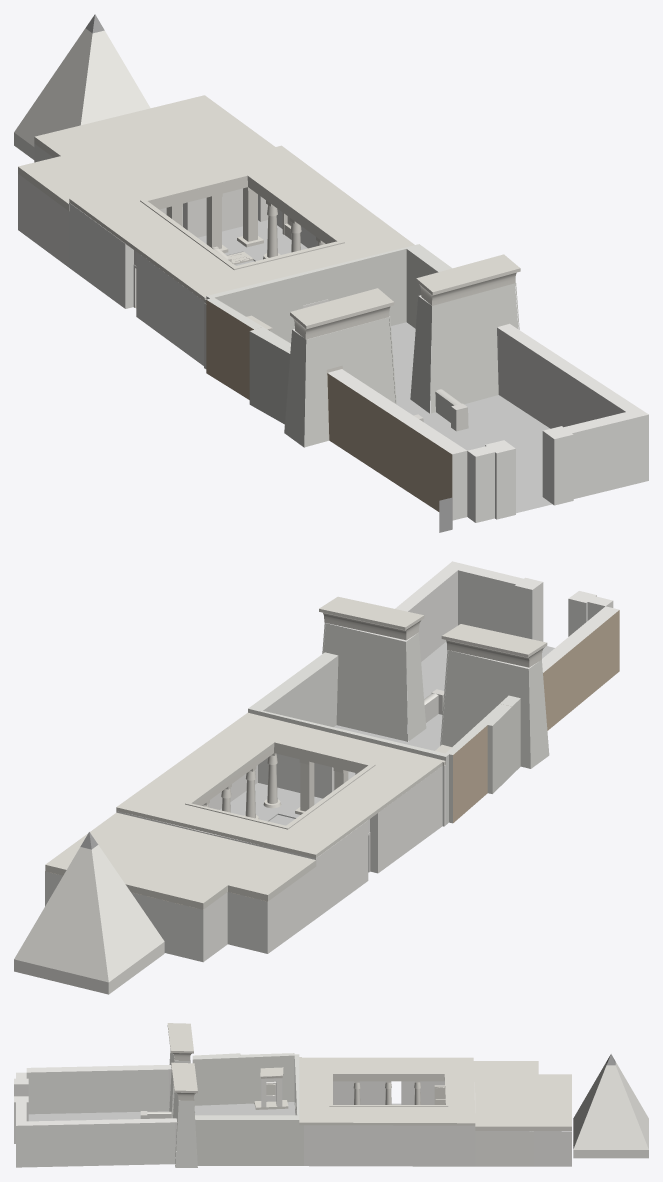
Rendered from Tia_Tia.glb.
The picture shows the model from 3 angles, top to bottom: view 1: azimuth 30°, elevation 25°; view 2: azimuth 150°, elevation 25°; view 3: azimuth 270°, elevation 25°; orthographic projection. The views are drawn at different scales.
Parts seen in each view (by area): view 1: Mesh23 Model, Mesh24 Model, Mesh21 Component_15_1 Model, Mesh14 Component_5_1 Model, Mesh19 Component_5_2 Component_15_1 Model, Mesh20 Component_15_1 Model, Mesh18 Component_10_1 Model, Mesh11 Component_6_1 Model, Mesh10 Component_6_1 Model; view 2: Mesh23 Model, Mesh24 Model, Mesh20 Component_15_1 Model, Mesh19 Component_5_2 Component_15_1 Model, Mesh14 Component_5_1 Model, Mesh18 Component_10_1 Model, Mesh13 Component_6_1 Model; view 3: Mesh23 Model, Mesh24 Model, Mesh20 Component_15_1 Model, Mesh19 Component_5_2 Component_15_1 Model, Mesh14 Component_5_1 Model, Mesh18 Component_10_1 Model, Mesh22 Model.
Part boxes in pixels (box(x1,y1,x2,y2)): Mesh23 Model: box(18, 95, 648, 522); Mesh24 Model: box(14, 14, 150, 159); Mesh21 Component_15_1 Model: box(431, 285, 518, 413); Mesh14 Component_5_1 Model: box(290, 288, 394, 339); Mesh19 Component_5_2 Component_15_1 Model: box(416, 254, 520, 305); Mesh20 Component_15_1 Model: box(410, 283, 519, 413); Mesh18 Component_10_1 Model: box(153, 180, 331, 243); Mesh11 Component_6_1 Model: box(237, 187, 263, 247); Mesh10 Component_6_1 Model: box(206, 193, 228, 252); Mesh23 Model: box(45, 561, 619, 962); Mesh24 Model: box(14, 832, 164, 994); Mesh20 Component_15_1 Model: box(322, 623, 426, 741); Mesh19 Component_5_2 Component_15_1 Model: box(319, 596, 424, 640); Mesh14 Component_5_1 Model: box(441, 624, 547, 667); Mesh18 Component_10_1 Model: box(196, 747, 363, 805); Mesh13 Component_6_1 Model: box(295, 759, 314, 814); Mesh23 Model: box(14, 1050, 571, 1167); Mesh24 Model: box(573, 1054, 648, 1158); Mesh20 Component_15_1 Model: box(172, 1093, 197, 1167); Mesh19 Component_5_2 Component_15_1 Model: box(171, 1062, 197, 1100); Mesh14 Component_5_1 Model: box(167, 1023, 193, 1060); Mesh18 Component_10_1 Model: box(333, 1077, 444, 1081); Mesh22 Model: box(260, 1067, 283, 1078).
Bounding box in the file's own units: 11.73 × 7.07 × 45.34.
